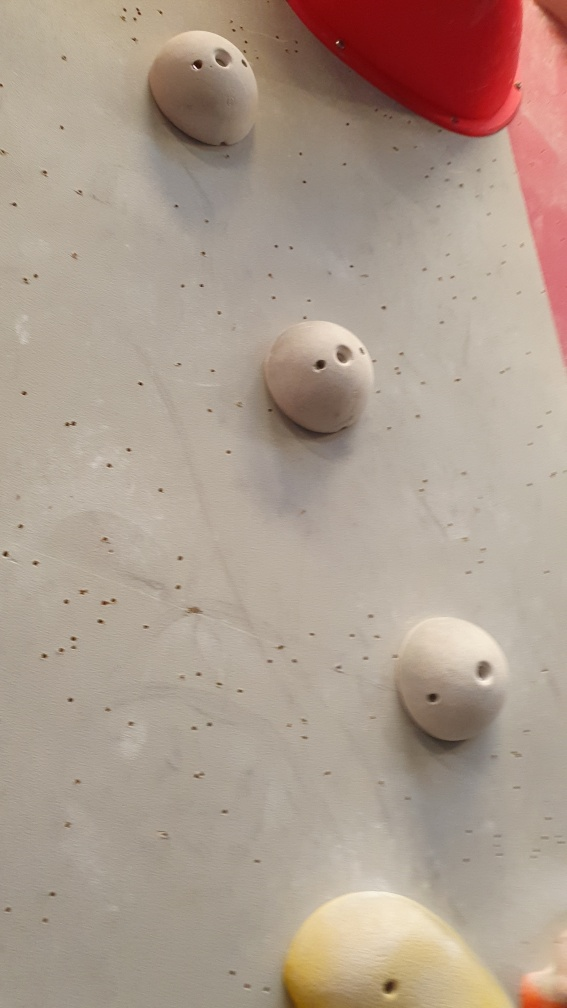Sloper: (397, 616, 512, 749), (263, 318, 375, 440), (153, 30, 260, 151)
